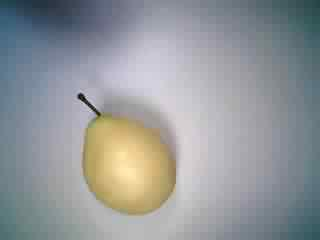pear: (65, 84, 185, 215)
